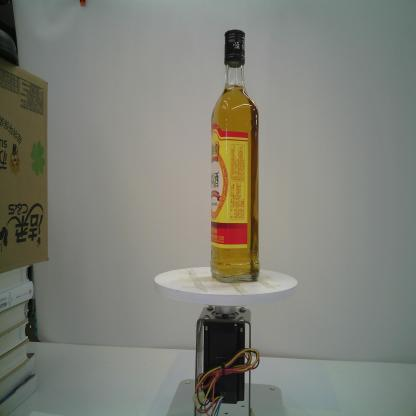Seasoner: (210, 28, 260, 284)
